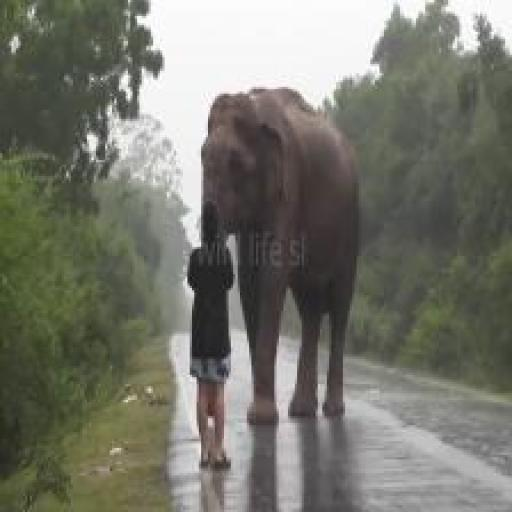Elephant: (183, 55, 379, 508)
